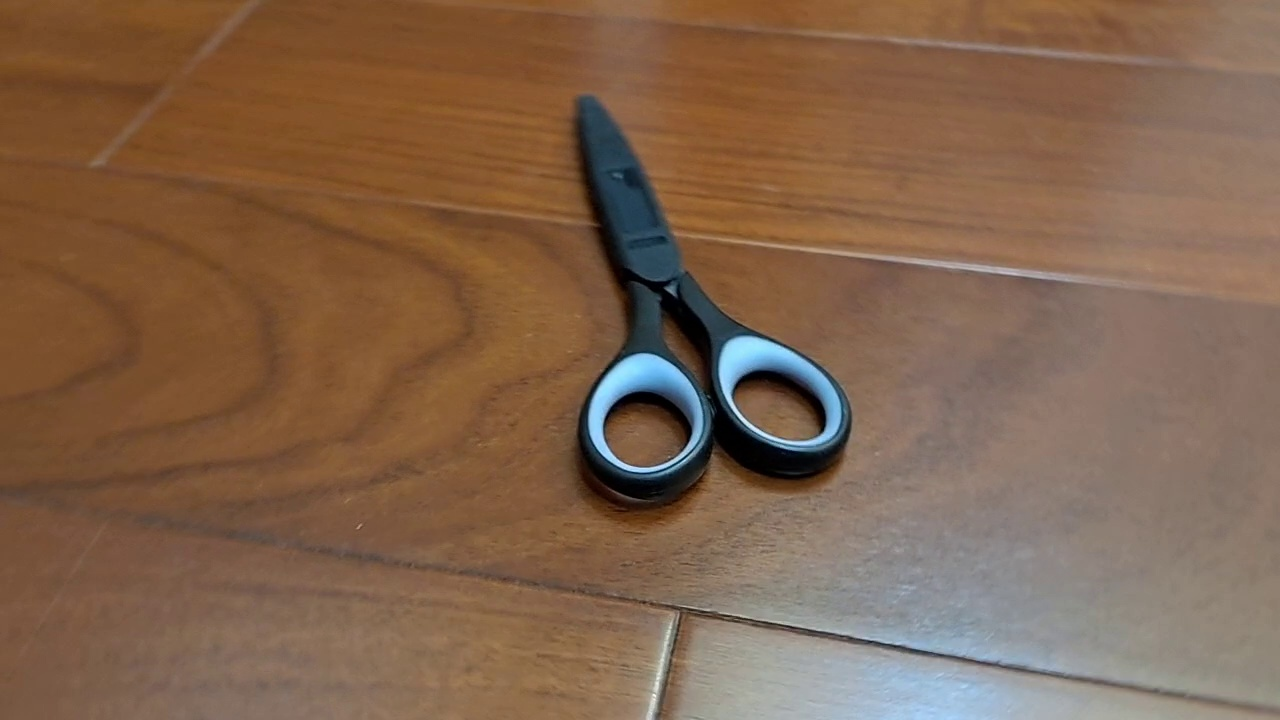scissors: (572, 93, 852, 501)
